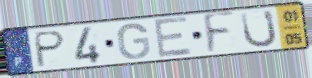4: (74, 24, 103, 66)
E: (151, 15, 194, 61)
F: (202, 9, 237, 58)
G: (115, 22, 152, 61)
P: (34, 29, 68, 69)
U: (239, 9, 279, 50)
